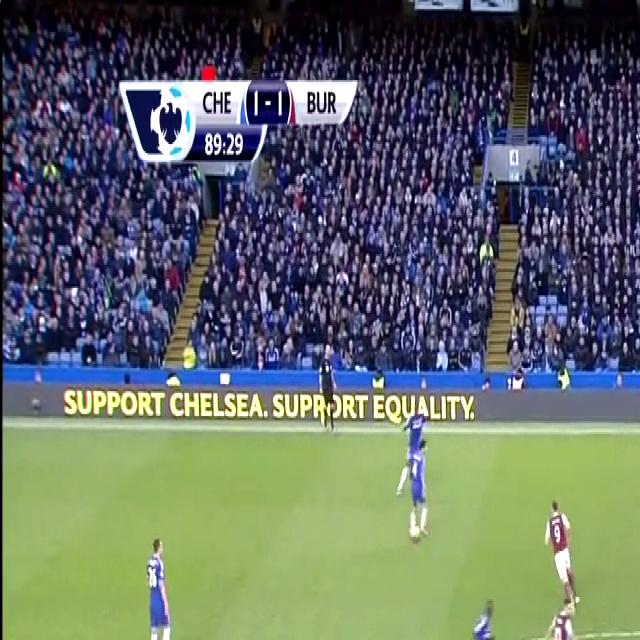referee: (314, 338, 348, 441)
soccer-player: (542, 490, 582, 614), (136, 526, 178, 640), (398, 438, 434, 551), (401, 394, 433, 492), (449, 590, 501, 640), (538, 595, 586, 640)
